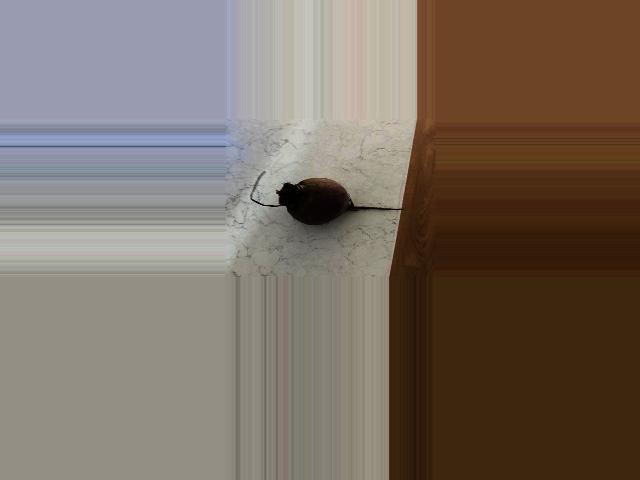beet: (251, 171, 405, 225)
